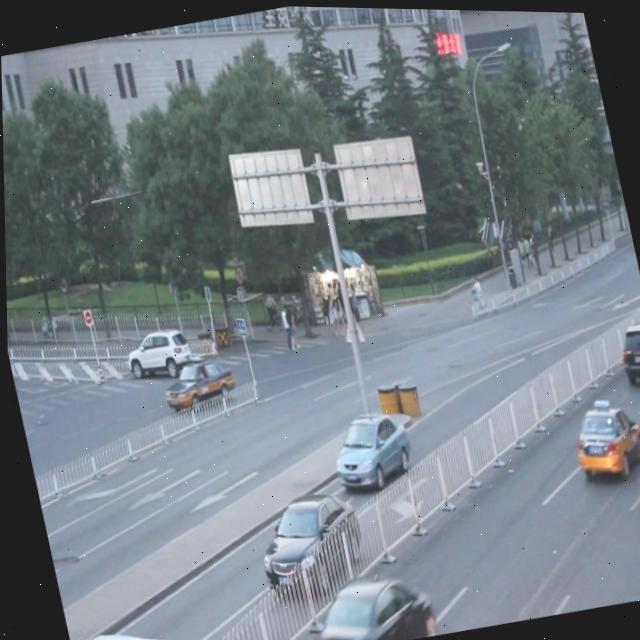car: (248, 488, 367, 598), (303, 570, 434, 640), (323, 408, 414, 491), (564, 396, 640, 477), (158, 353, 235, 411), (121, 321, 193, 382), (66, 613, 180, 640), (613, 320, 640, 383), (623, 432, 640, 519)
